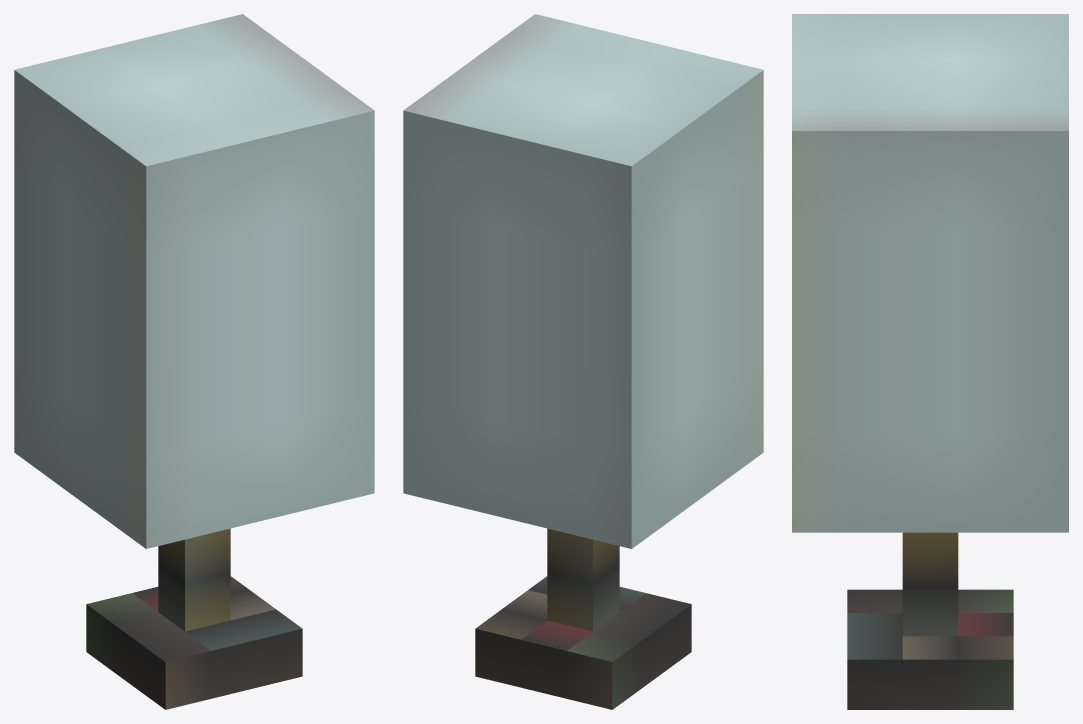
File: LampWhite_01.fbx
The picture shows the model from 3 angles, left to right: view 1: azimuth 30°, elevation 25°; view 2: azimuth 150°, elevation 25°; view 3: azimuth 270°, elevation 25°; orthographic projection. The views are drawn at different scales.
Parts seen in each view (by area): view 1: LampWhite_01; view 2: LampWhite_01; view 3: LampWhite_01.
Boxes of the visible parts, x1=… form: LampWhite_01: x1=14, y1=14, x2=374, y2=709; LampWhite_01: x1=403, y1=14, x2=763, y2=709; LampWhite_01: x1=792, y1=14, x2=1068, y2=709.
Bounding box in the file's own units: 25 × 25 × 60.
Materials: 2 (2 with a texture image).
